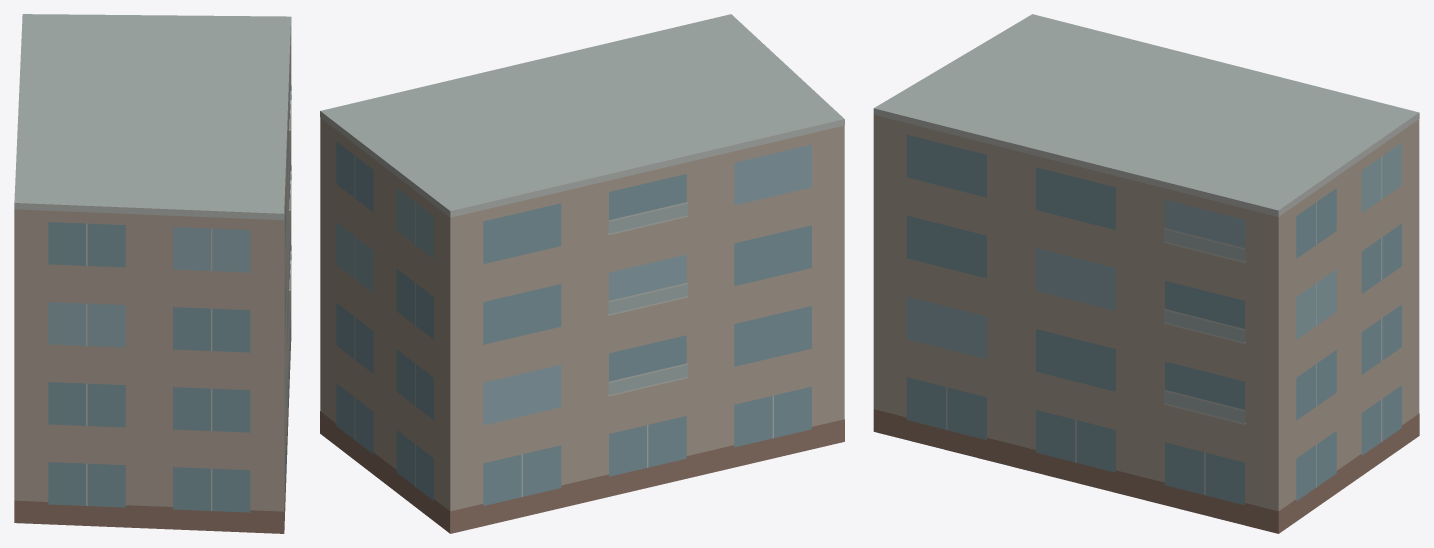
Rendered from survey-upis-32882830.glb.
3 renders of one model, left to right at view 1: azimuth 30°, elevation 25°; view 2: azimuth 150°, elevation 25°; view 3: azimuth 270°, elevation 25°, orthographic.
Visible parts, largest first — view 1: survey-upis-32882830.tmp; view 2: survey-upis-32882830.tmp; view 3: survey-upis-32882830.tmp.
Part boxes in pixels (box(x1,y1,x2,y2)): survey-upis-32882830.tmp: box(14, 14, 291, 533); survey-upis-32882830.tmp: box(320, 14, 844, 533); survey-upis-32882830.tmp: box(873, 14, 1419, 533).
Size of the model in its own units: 15.91 by 12.2 by 18.67.
